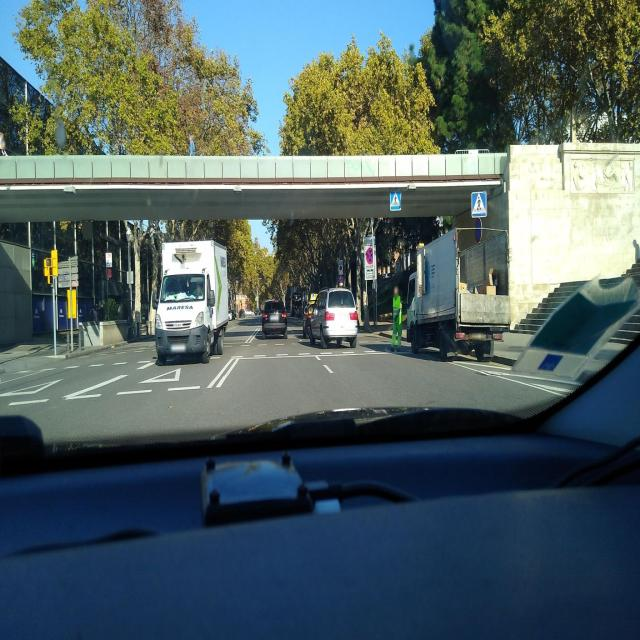forb_stopping: (475, 218, 483, 228)
